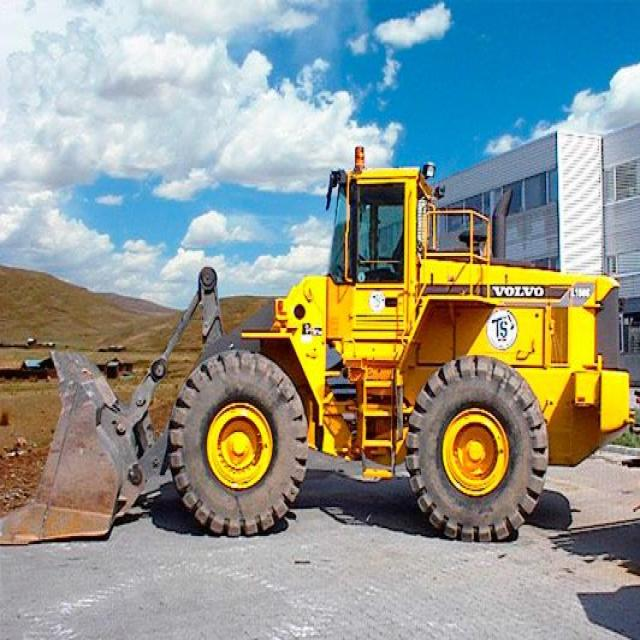buldozerpayloadergrader: (13, 158, 640, 541)
